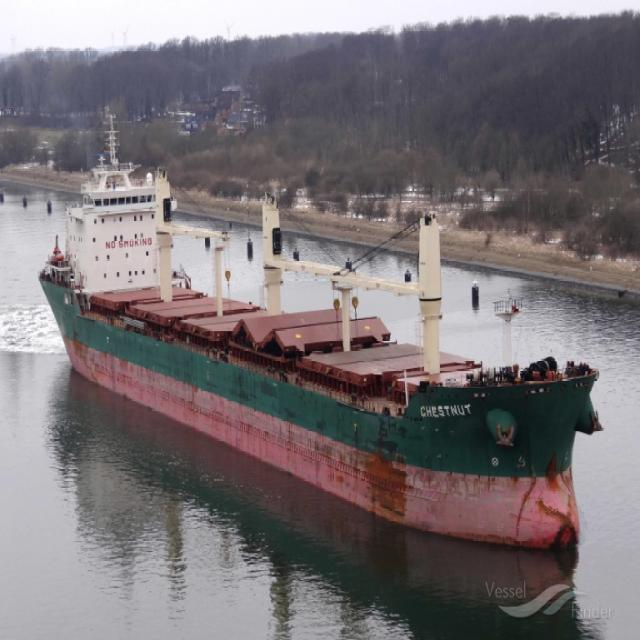OCR: (414, 398, 480, 429)
